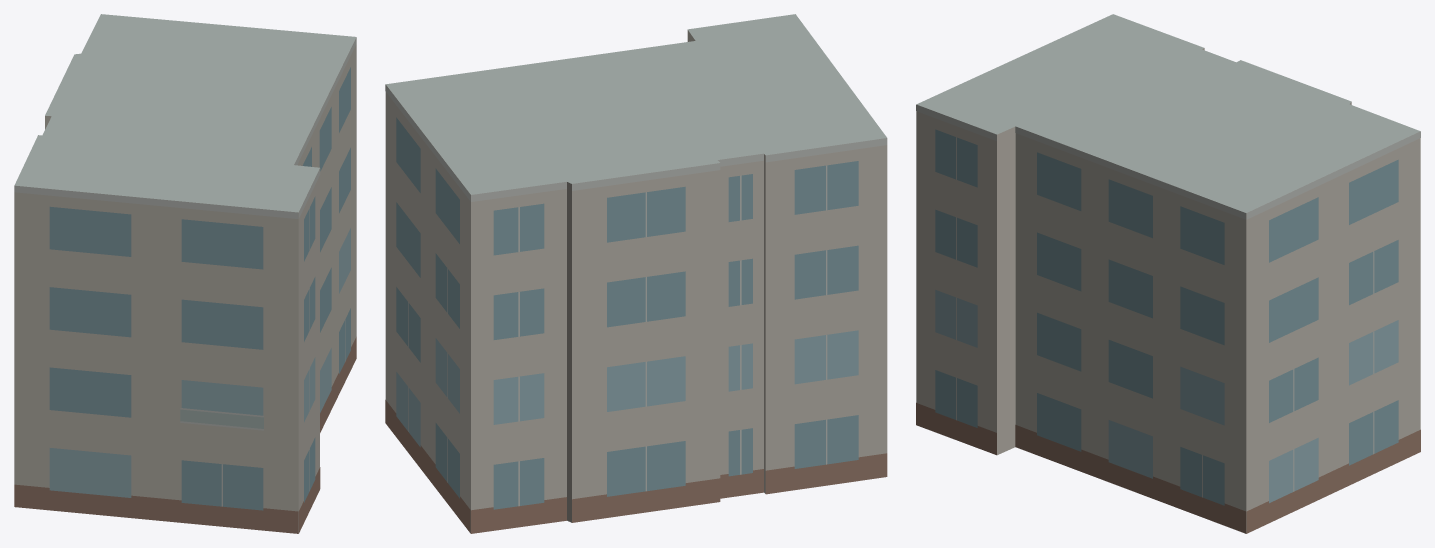
Rendered from survey-upis-32899977.glb.
3 views of the same model, side by side, from view 1: azimuth 30°, elevation 25°; view 2: azimuth 150°, elevation 25°; view 3: azimuth 270°, elevation 25° (orthographic). The views are drawn at different scales.
Parts seen in each view (by area): view 1: survey-upis-32899977.tmp; view 2: survey-upis-32899977.tmp; view 3: survey-upis-32899977.tmp.
Part boxes in pixels (x1=…): survey-upis-32899977.tmp: x1=14, y1=14, x2=356, y2=533; survey-upis-32899977.tmp: x1=385, y1=14, x2=887, y2=533; survey-upis-32899977.tmp: x1=916, y1=14, x2=1420, y2=533.
Bounding box in the file's own units: 15.59 × 11.7 × 16.69.
